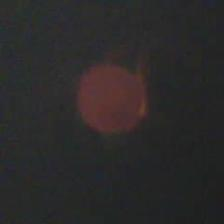fertile: (73, 61, 147, 138)
